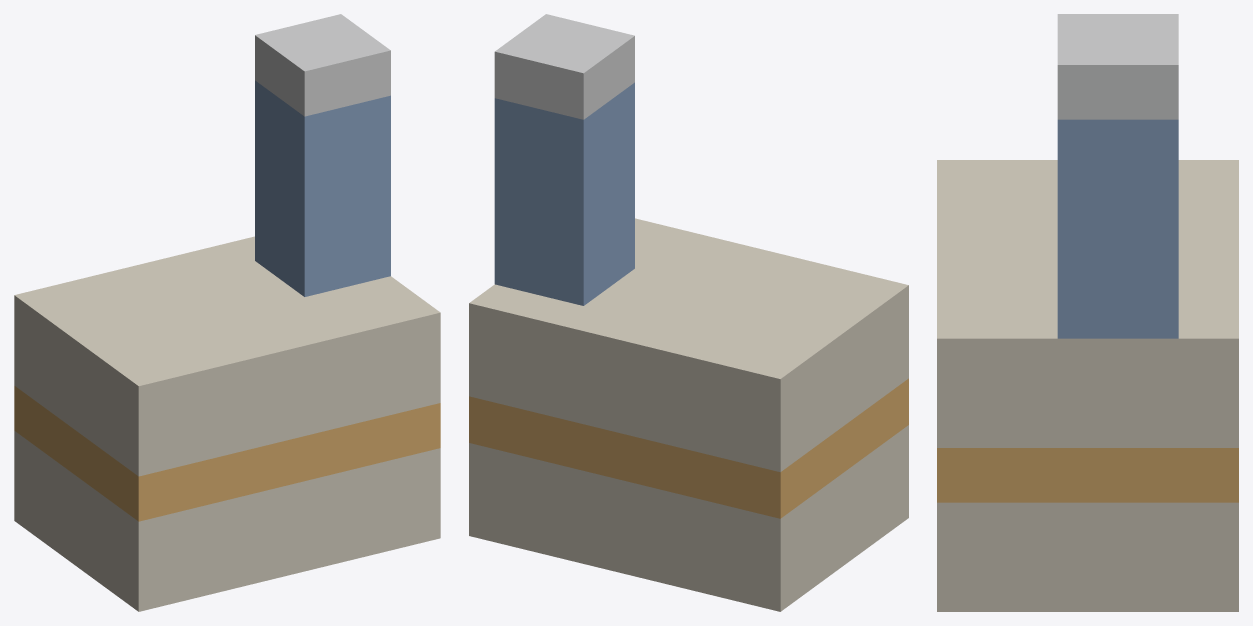
The model's file is provisions_guet.glb.
3 views of the same model, side by side, from view 1: azimuth 30°, elevation 25°; view 2: azimuth 150°, elevation 25°; view 3: azimuth 270°, elevation 25° (orthographic). The views are drawn at different scales.
Parts seen in each view (by area): view 1: main; view 2: main; view 3: main.
Boxes of the visible parts, x1=… form: main: x1=14, y1=14, x2=440, y2=611; main: x1=469, y1=14, x2=908, y2=611; main: x1=937, y1=14, x2=1238, y2=611.
Bounding box in the file's own units: 0.4375 × 0.625 × 0.3125.
